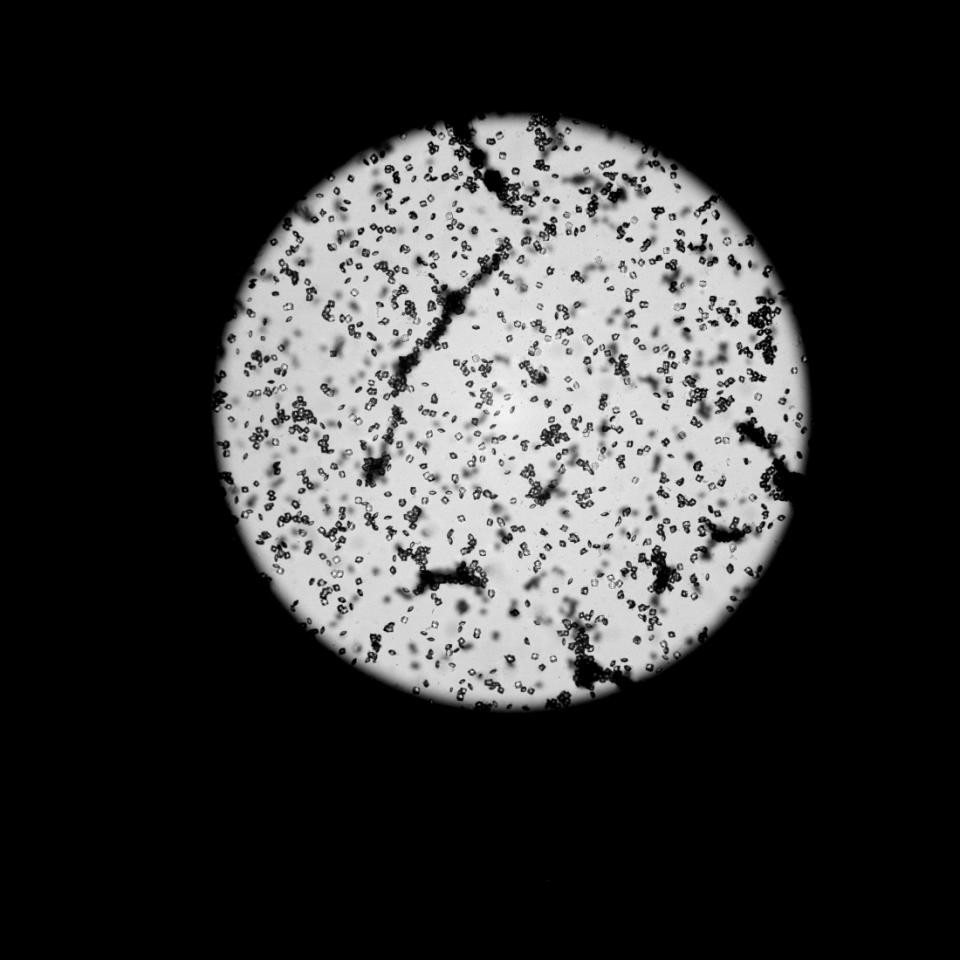crystal: (659, 435, 673, 449), (621, 377, 634, 391), (542, 398, 556, 411), (727, 541, 739, 555), (691, 459, 704, 471), (496, 310, 507, 324), (637, 445, 651, 456), (429, 393, 443, 404), (425, 298, 436, 312), (368, 202, 380, 214), (567, 533, 580, 544), (694, 473, 706, 484), (386, 648, 398, 659), (226, 332, 236, 345), (399, 244, 410, 255), (318, 207, 329, 218), (611, 332, 623, 342), (346, 520, 356, 532), (424, 472, 436, 482), (556, 464, 568, 474), (470, 225, 480, 237), (492, 288, 502, 300), (528, 394, 540, 404), (783, 412, 792, 425), (269, 290, 283, 298), (681, 326, 692, 336), (725, 563, 735, 574), (472, 628, 482, 639), (504, 654, 515, 664), (408, 210, 418, 221), (668, 212, 679, 222), (697, 255, 707, 266), (502, 392, 513, 402), (698, 323, 709, 333), (520, 379, 529, 391), (489, 226, 501, 235), (470, 417, 482, 426), (404, 163, 416, 172), (418, 199, 430, 208), (400, 154, 415, 161), (423, 233, 436, 241), (632, 336, 642, 346), (632, 635, 642, 645), (562, 404, 572, 414), (404, 454, 414, 464), (638, 300, 648, 310), (509, 607, 519, 617), (360, 248, 370, 258), (582, 166, 592, 176), (722, 236, 732, 246), (593, 255, 603, 265), (562, 210, 572, 220), (406, 605, 416, 615), (338, 205, 348, 215), (349, 288, 360, 297), (597, 453, 608, 462), (285, 315, 296, 324), (472, 402, 484, 410), (430, 210, 438, 222), (573, 226, 580, 239), (644, 663, 654, 672), (778, 396, 787, 406), (516, 255, 526, 264), (450, 474, 459, 484), (546, 266, 555, 276), (677, 431, 687, 440), (453, 432, 463, 441), (332, 555, 342, 564), (495, 130, 504, 140), (579, 224, 588, 234), (574, 204, 583, 214), (490, 380, 499, 390), (425, 635, 435, 644), (258, 334, 267, 344), (412, 317, 422, 326), (370, 154, 379, 164), (327, 214, 336, 224), (356, 588, 364, 599), (487, 588, 495, 599), (707, 242, 715, 253), (246, 329, 254, 340), (651, 392, 662, 400), (509, 404, 516, 416), (464, 380, 476, 387), (261, 314, 268, 326), (354, 577, 363, 586), (338, 534, 347, 543), (580, 586, 589, 595), (629, 271, 638, 280), (426, 194, 435, 203), (631, 476, 640, 485), (498, 151, 507, 160), (471, 354, 480, 363), (590, 578, 599, 587), (519, 284, 528, 293), (668, 350, 676, 360), (537, 663, 547, 671), (362, 512, 372, 520), (748, 494, 758, 502), (754, 392, 762, 402), (459, 270, 469, 278), (486, 138, 496, 146), (630, 216, 640, 224), (700, 218, 710, 226), (565, 228, 573, 238), (444, 212, 454, 220), (424, 430, 434, 438), (420, 447, 428, 457), (711, 320, 721, 328), (336, 596, 346, 604), (354, 262, 364, 270), (737, 435, 747, 443), (623, 236, 636, 242), (487, 424, 500, 430), (374, 301, 385, 308), (745, 405, 756, 412), (673, 315, 681, 324), (355, 556, 364, 564), (400, 616, 409, 624), (449, 452, 458, 460), (535, 281, 544, 289), (430, 621, 439, 629), (698, 280, 707, 288), (511, 167, 520, 175), (592, 462, 600, 471), (662, 246, 671, 254), (564, 221, 573, 229), (429, 262, 437, 271), (414, 442, 423, 450), (672, 302, 681, 310), (701, 311, 709, 320), (456, 625, 464, 634), (392, 328, 400, 337), (401, 334, 410, 342), (401, 266, 410, 274), (410, 174, 418, 183), (472, 324, 482, 331), (458, 620, 468, 627), (343, 277, 353, 284), (426, 272, 436, 279), (694, 318, 705, 324), (348, 602, 354, 613), (549, 654, 557, 662), (505, 335, 513, 343), (531, 652, 539, 660), (272, 438, 280, 446), (421, 497, 429, 505), (565, 348, 573, 356), (536, 302, 544, 310), (690, 592, 698, 600), (790, 366, 798, 374), (412, 686, 420, 694), (493, 410, 501, 418), (361, 274, 369, 282), (406, 328, 414, 336), (457, 515, 466, 522), (680, 302, 687, 311), (304, 277, 313, 284), (432, 278, 441, 285), (316, 527, 326, 533), (332, 186, 342, 192), (653, 214, 661, 221), (555, 452, 562, 460), (320, 624, 325, 635), (419, 630, 428, 636), (756, 329, 763, 336), (680, 282, 686, 290), (340, 630, 347, 636), (698, 306, 703, 313), (307, 617, 312, 624)
not_crystal: (709, 524, 744, 543), (650, 548, 672, 574), (737, 424, 769, 437), (759, 338, 774, 363), (575, 458, 594, 475), (748, 310, 764, 327), (364, 398, 378, 411), (385, 526, 397, 540), (615, 454, 626, 469), (598, 394, 609, 409), (456, 688, 467, 701)
